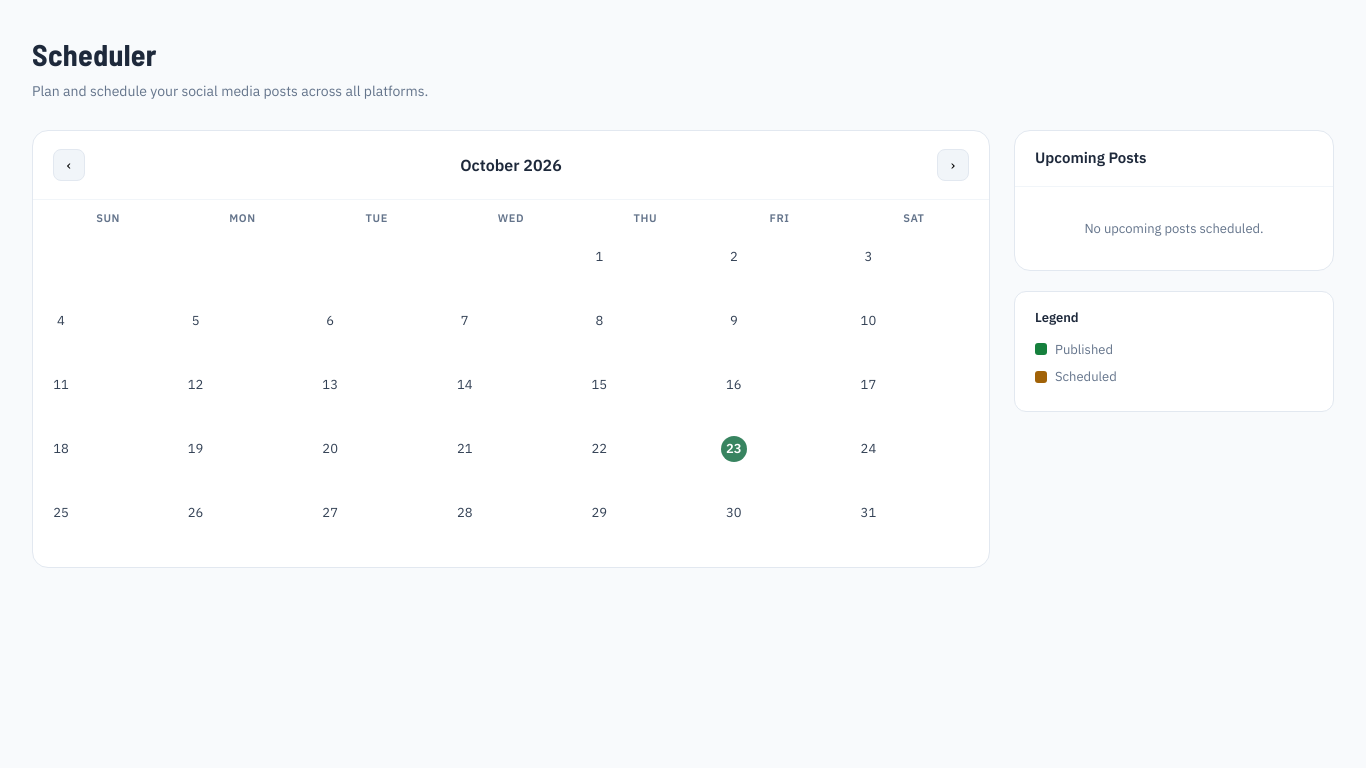
Test case: Scheduler — day detail panel › shows "No posts" message when an empty day is clicked
The width and height of the screenshot is (1366, 768).
expect the heading "October 2026" is shown: met, box [460, 153, 562, 177]
Click day 1 (always present in any month)
Step 1. Click the text "1" → [599, 256], box [595, 248, 603, 265]
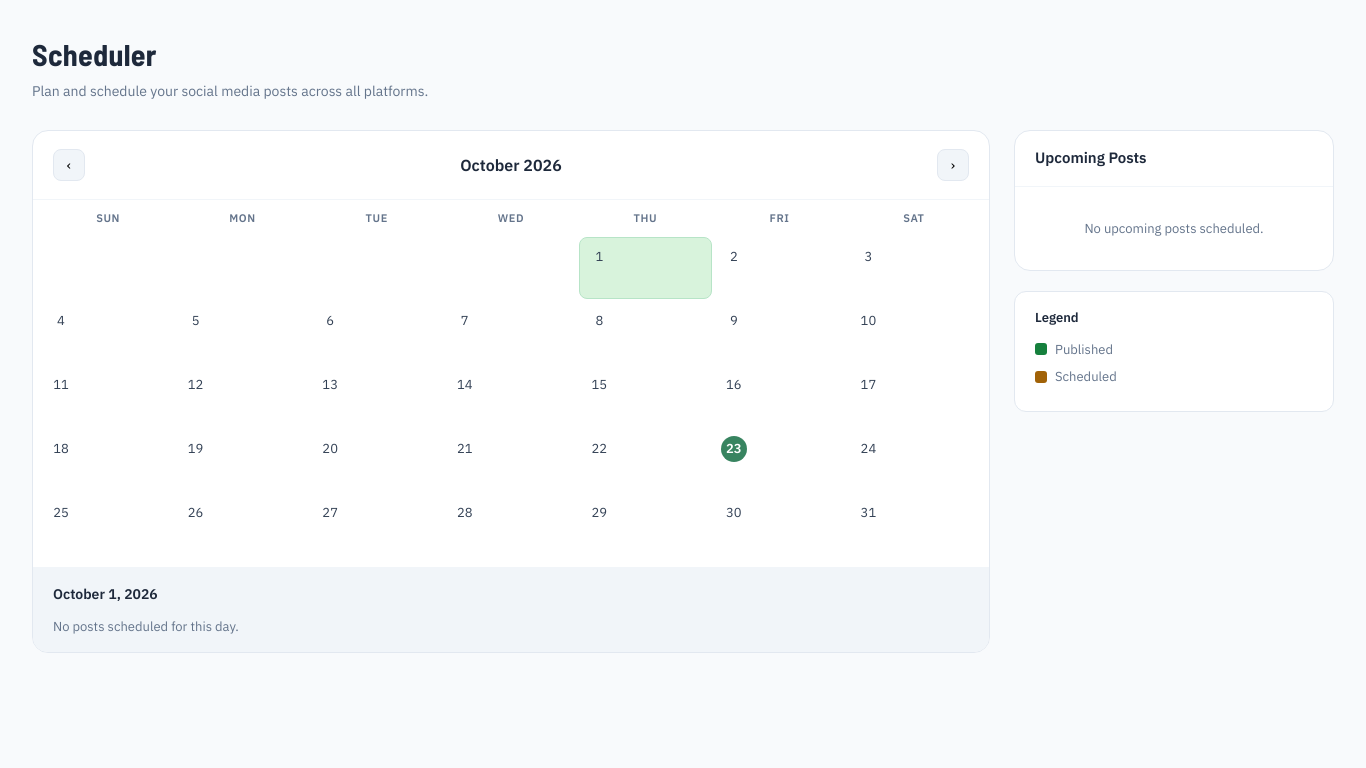
expect the text "No posts scheduled for this day." is shown: met, box [53, 618, 239, 634]
